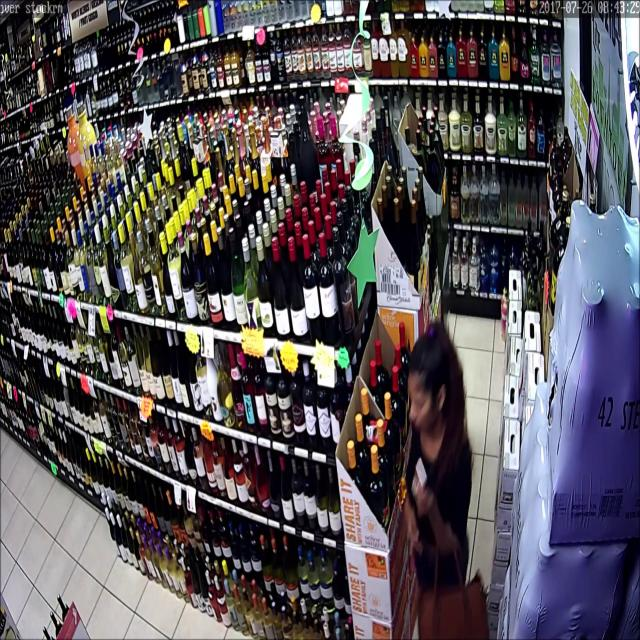normal: (367, 319, 491, 640)
